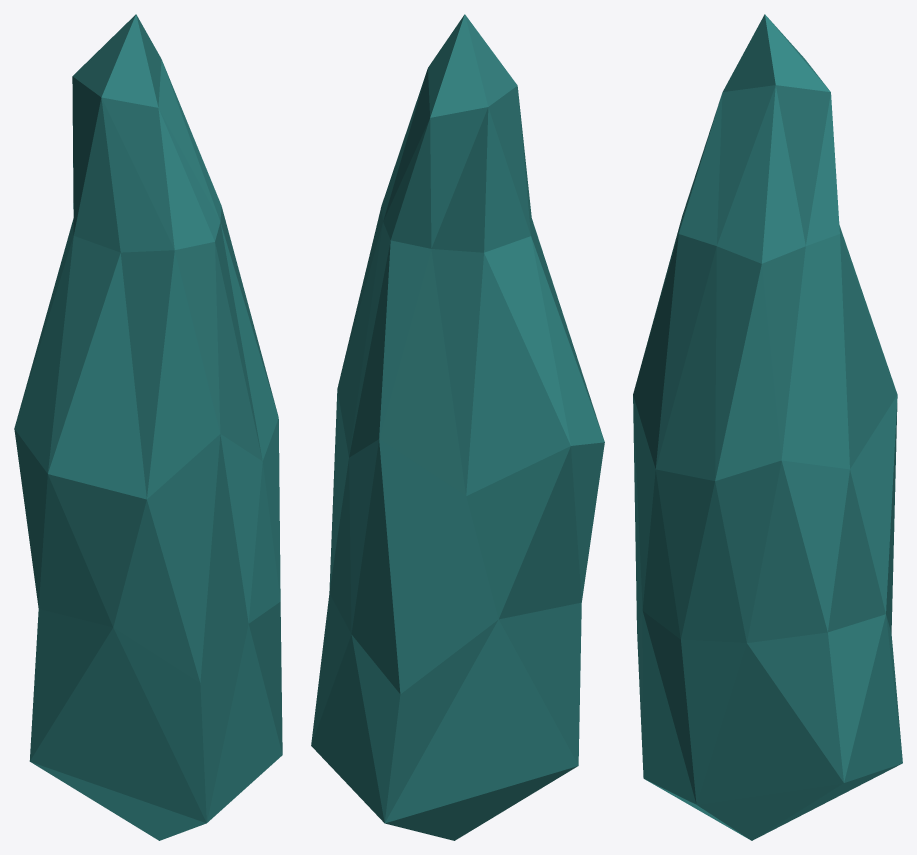
File: Tree_1_Blue.fbx
The picture shows the model from 3 angles, left to right: view 1: azimuth 30°, elevation 25°; view 2: azimuth 150°, elevation 25°; view 3: azimuth 270°, elevation 25°; orthographic projection. The views are drawn at different scales.
Visible parts, largest first — view 1: Tree_1_Blue; view 2: Tree_1_Blue; view 3: Tree_1_Blue.
Boxes of the visible parts, x1,y1,x2,y2 form: Tree_1_Blue: [14, 14, 282, 840]; Tree_1_Blue: [311, 14, 604, 840]; Tree_1_Blue: [633, 14, 902, 840].
Bounding box in the file's own units: 183 × 596 × 178.
